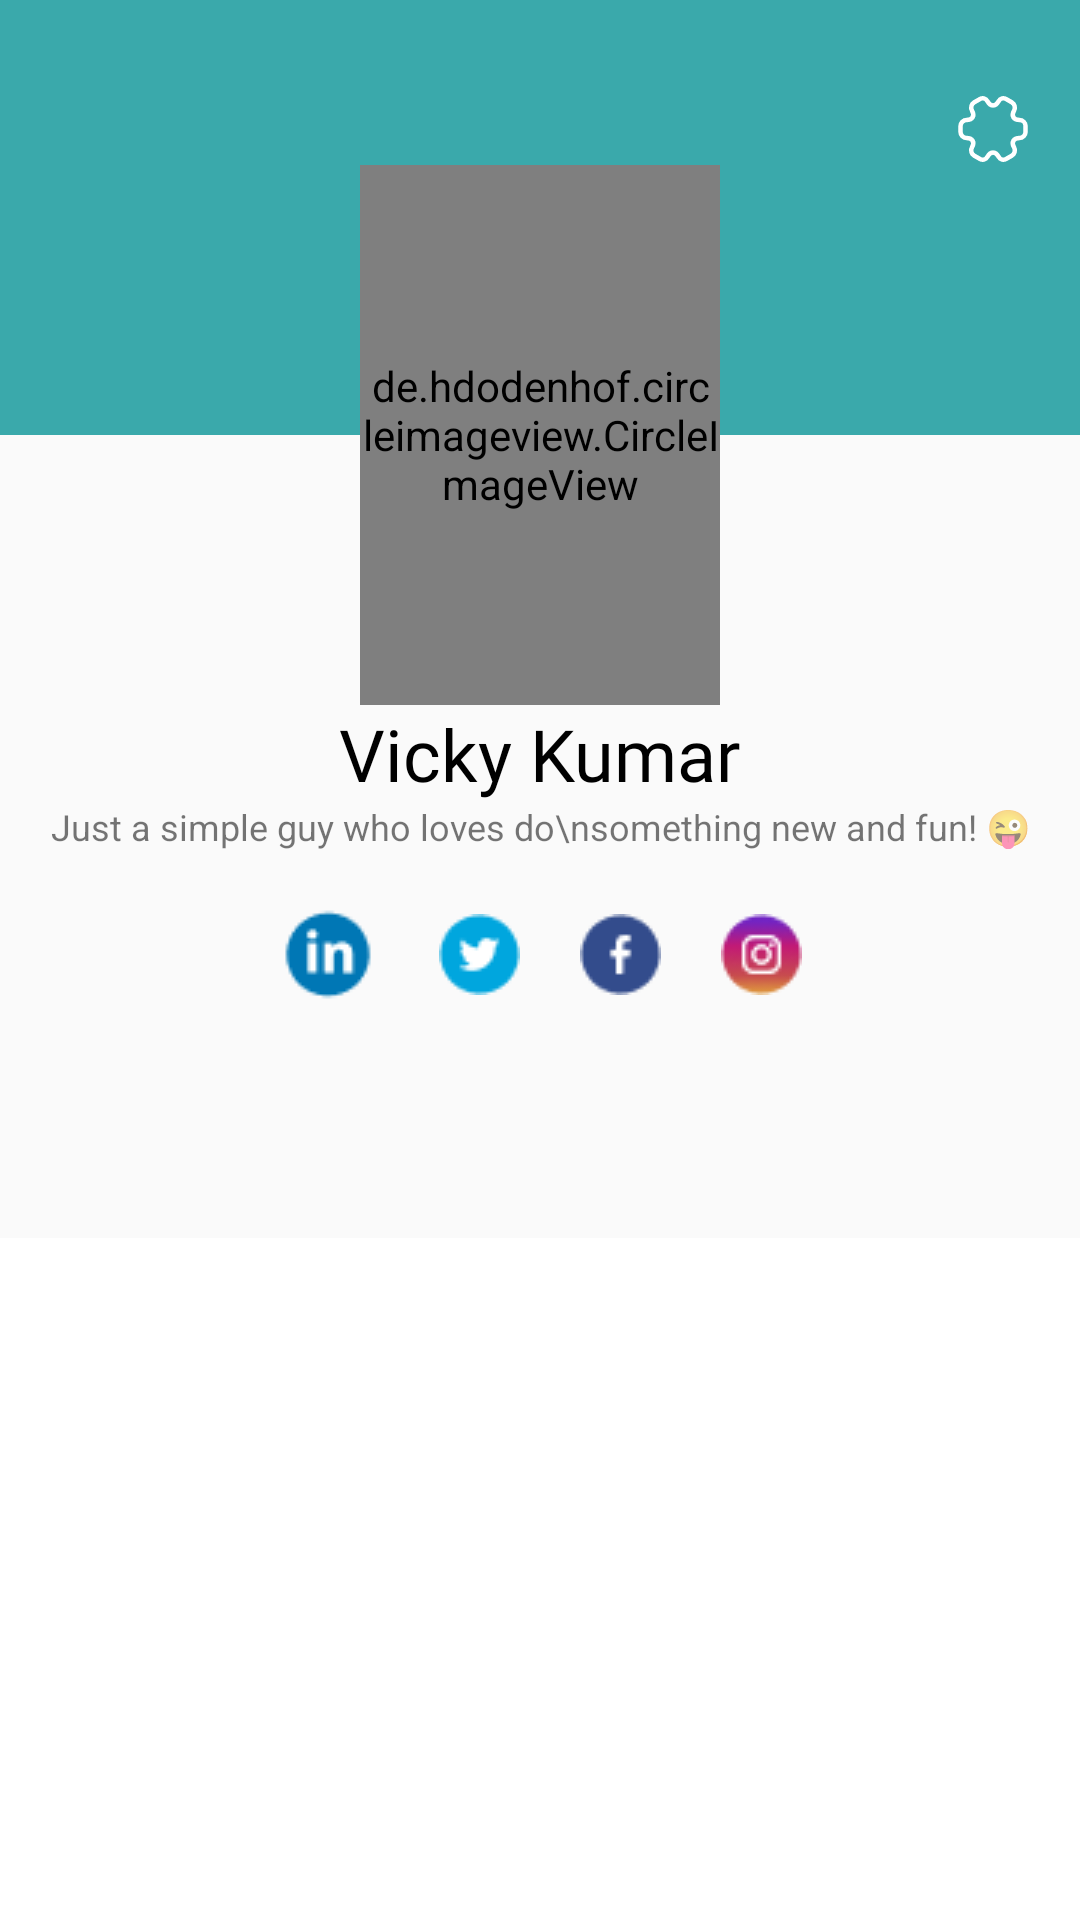

Where icons sit on this 1080px x 1920px app screen, as (x1, y1, x2, y2):
setting: (958, 96, 1028, 162)
